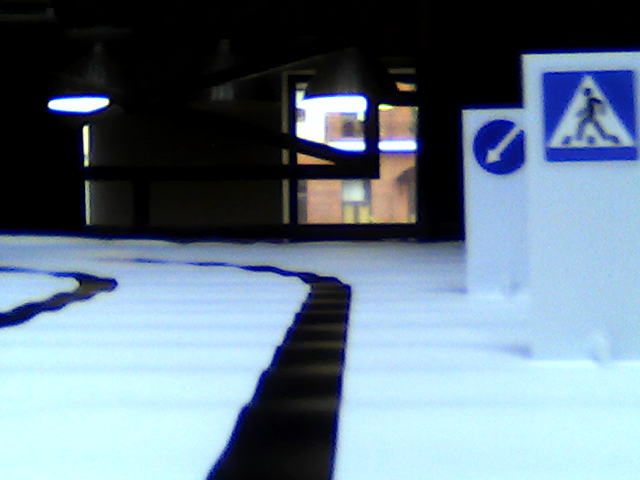pesh: (542, 67, 635, 160)
prep: (471, 118, 530, 177)
